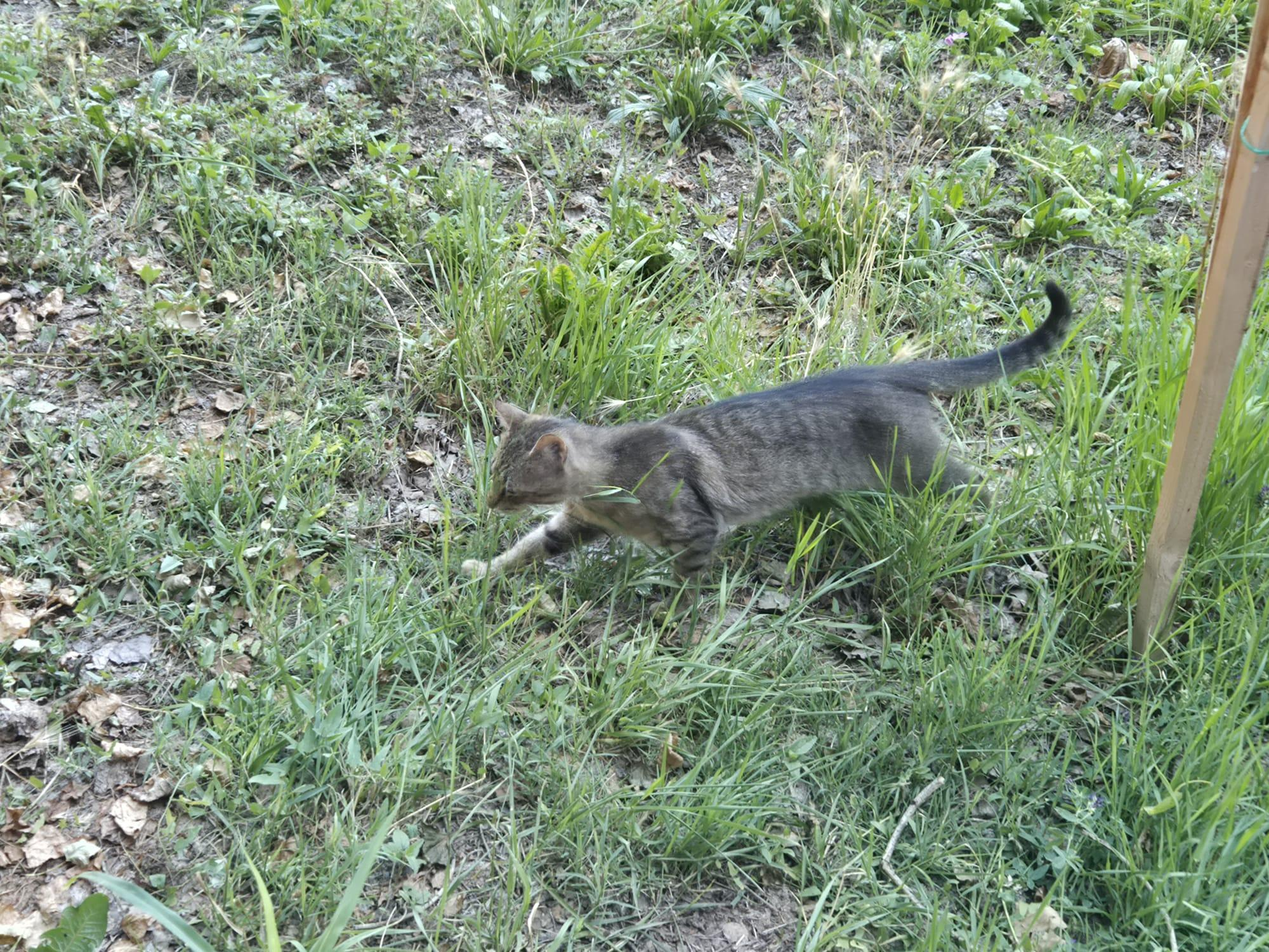macka: (461, 282, 1074, 624)
